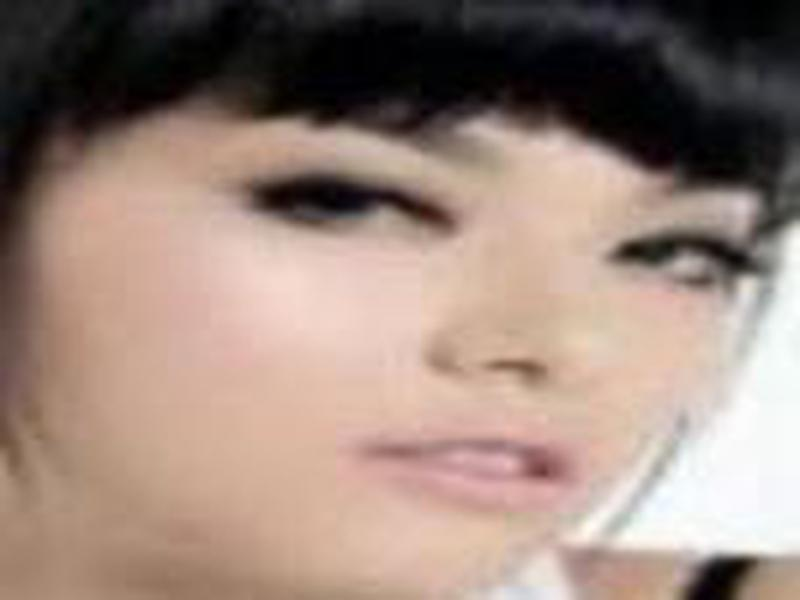without_mask: (34, 61, 772, 600)
